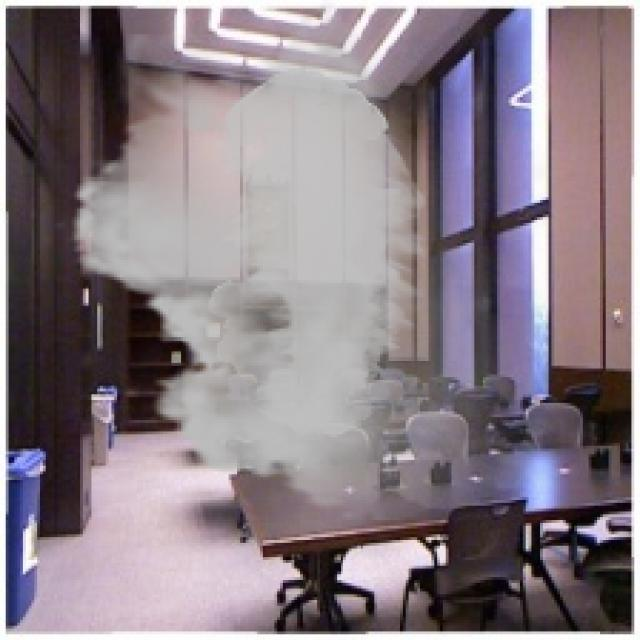smoke: (52, 0, 574, 520)
